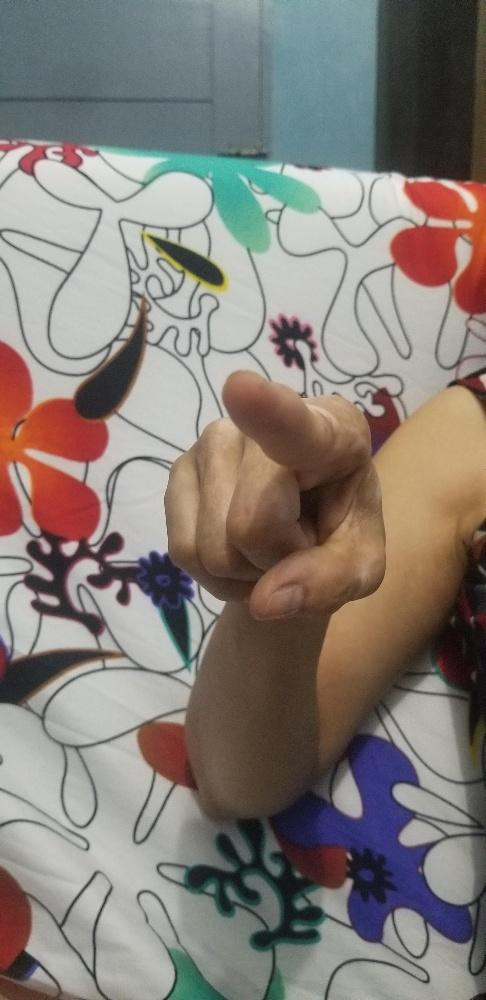z: (159, 363, 388, 622)
